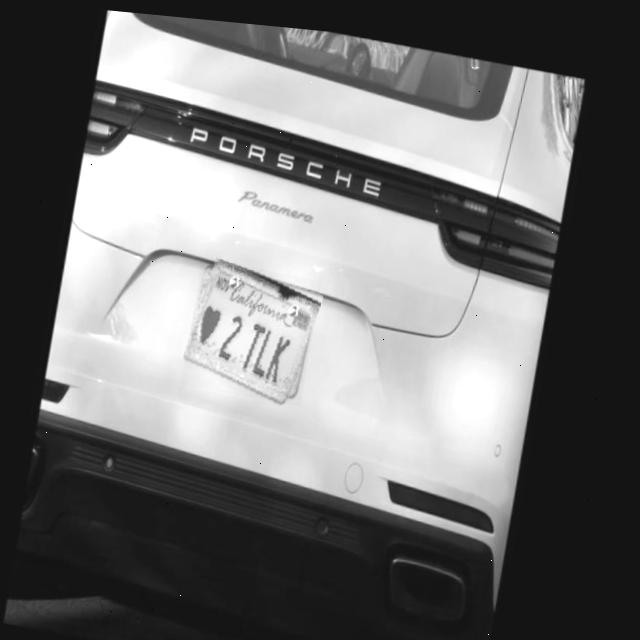LicensePlate: (186, 253, 326, 400)
